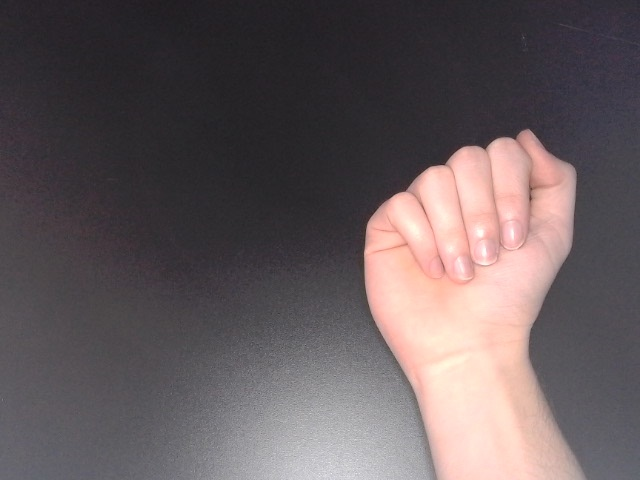a: (356, 126, 581, 386)
